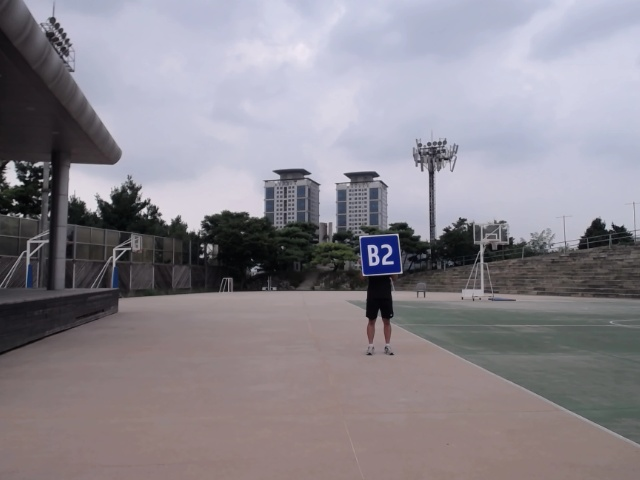delivery_b2: (359, 234, 404, 276)
